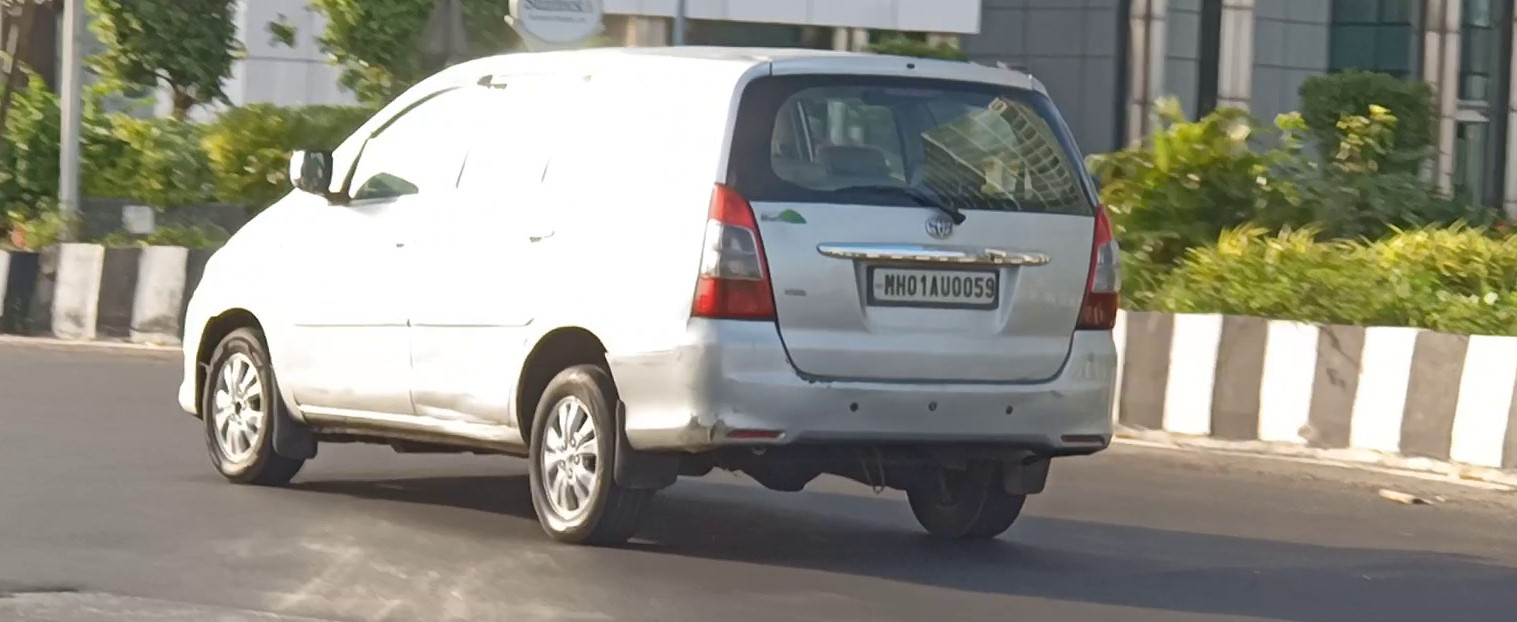MH01AU0059: (872, 268, 998, 305)
